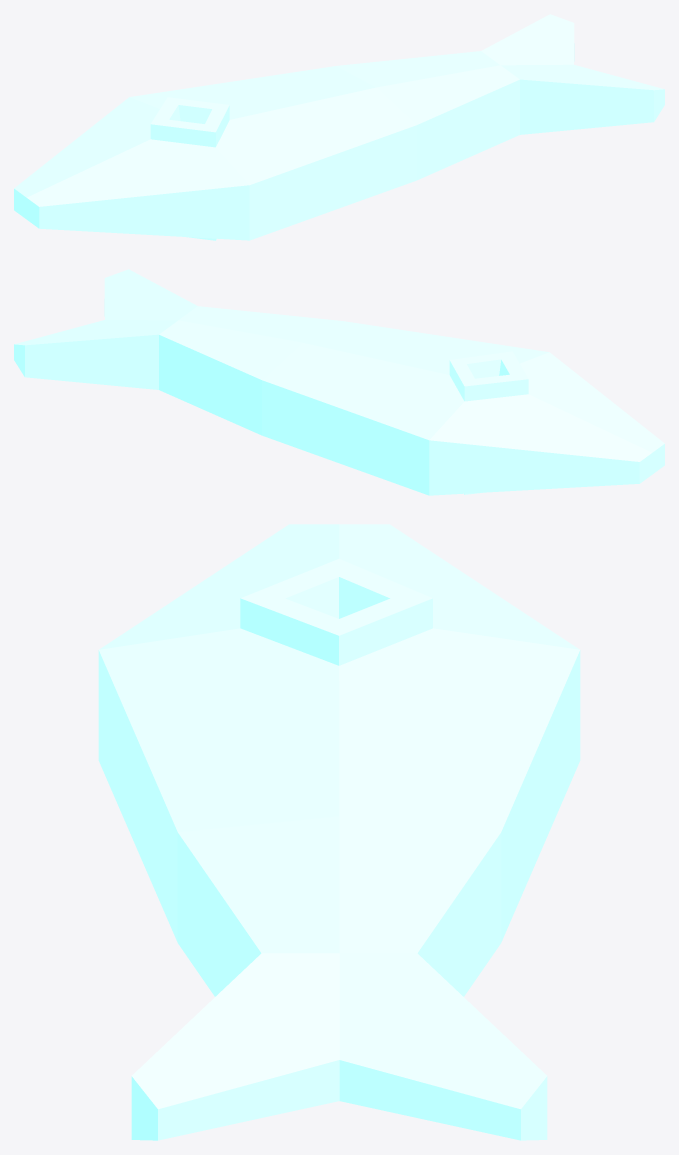
Rendered from Fish.fbx.
The picture shows the model from 3 angles, top to bottom: view 1: azimuth 30°, elevation 25°; view 2: azimuth 150°, elevation 25°; view 3: azimuth 270°, elevation 25°; orthographic projection. The views are drawn at different scales.
Parts seen in each view (by area): view 1: Plane; view 2: Plane; view 3: Plane.
Part boxes in pixels (left/top/right/bottom): Plane: left=14, top=14, right=664, bottom=240; Plane: left=14, top=269, right=664, bottom=495; Plane: left=98, top=524, right=580, bottom=1140.
Size of the model in its own units: 2.14 by 0.373 by 0.7508.
